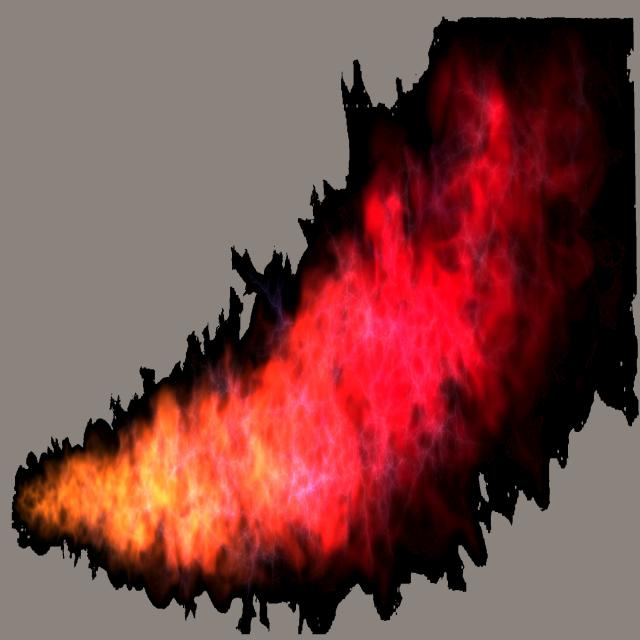fire: (0, 166, 559, 630)
